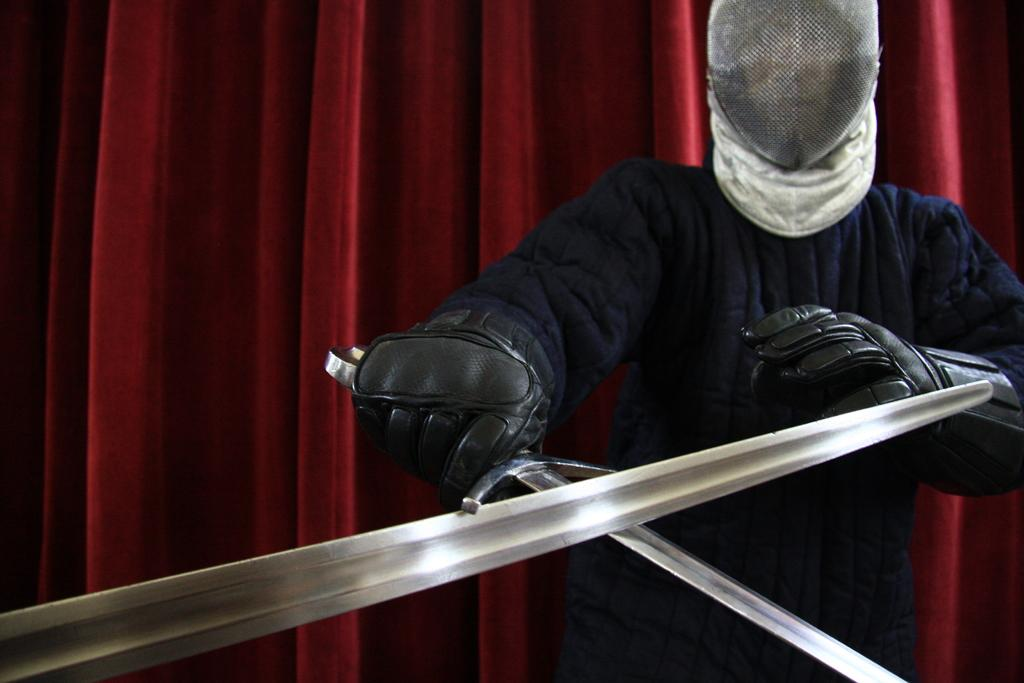Sword: (323, 342, 902, 682)
